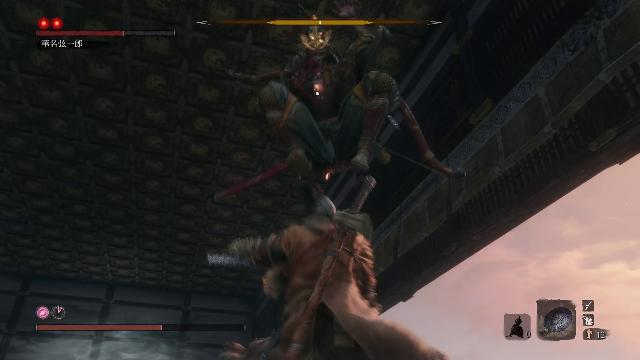sk: (224, 178, 454, 360)
